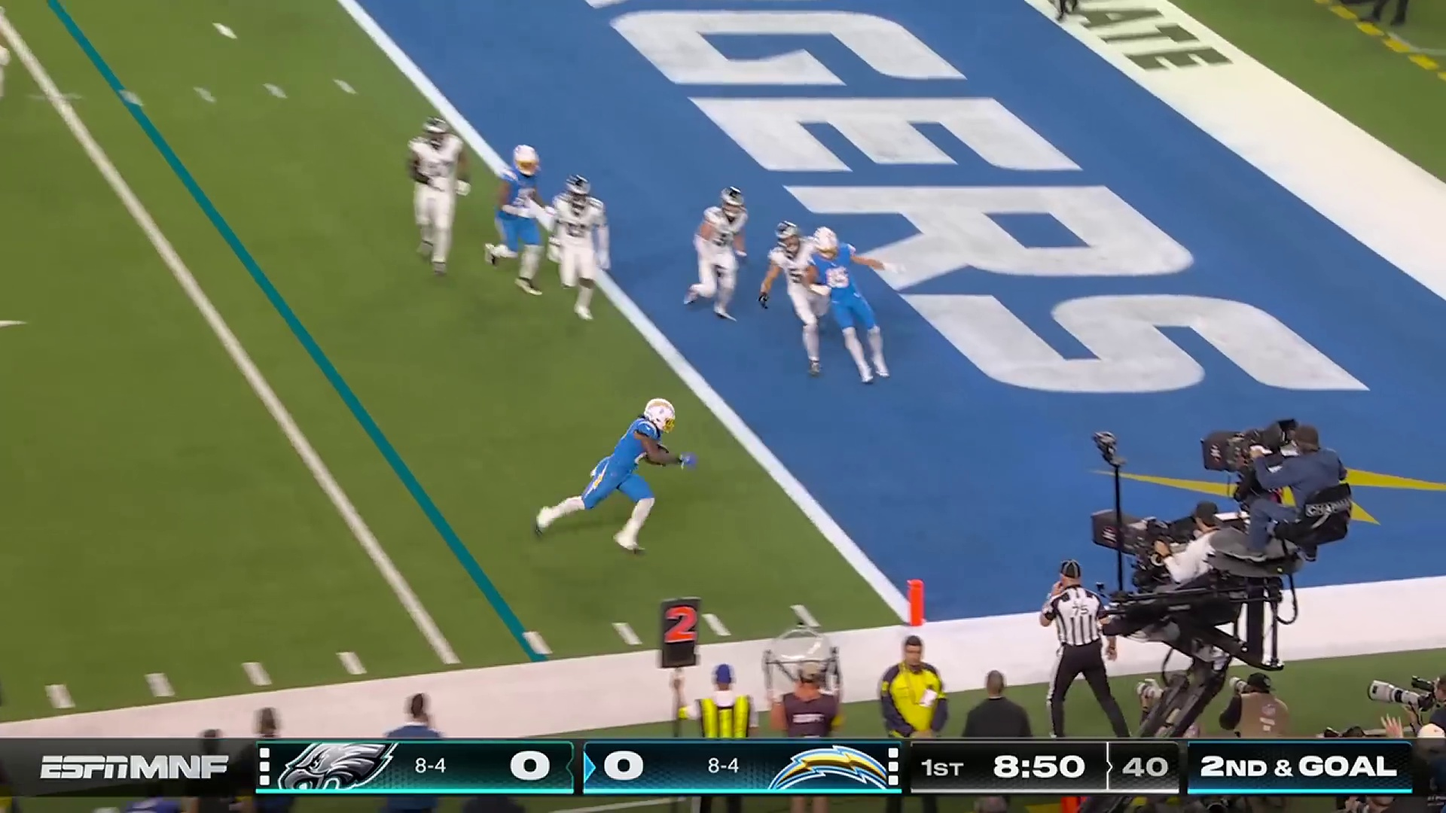ball: (644, 438, 670, 471)
player: (583, 385, 676, 560), (818, 223, 897, 386), (407, 116, 465, 280), (550, 174, 609, 314), (767, 216, 820, 353), (691, 184, 741, 312), (494, 146, 540, 281)
